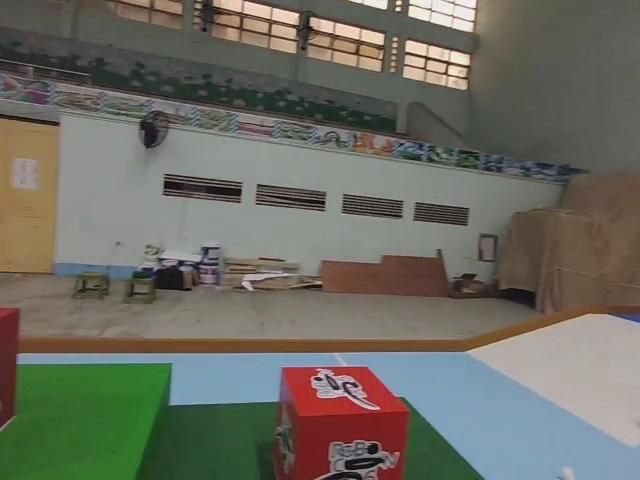R1: (270, 362, 413, 480)
